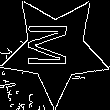M_E: (31, 26, 80, 73)
